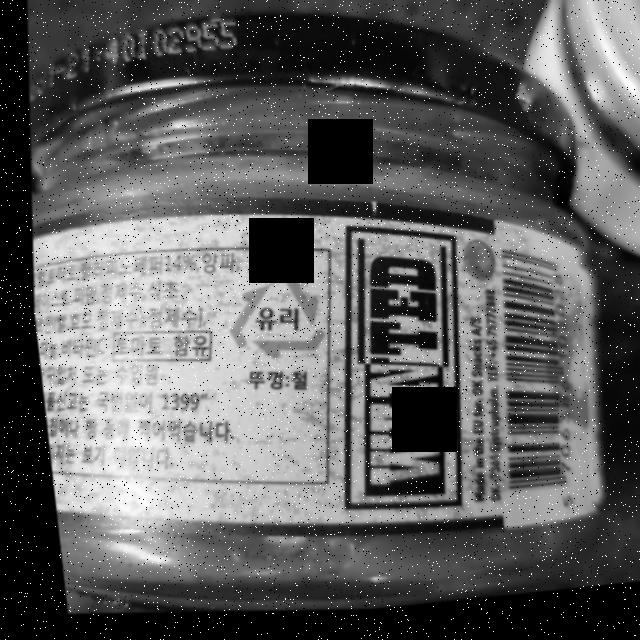Glass: (210, 264, 327, 374)
